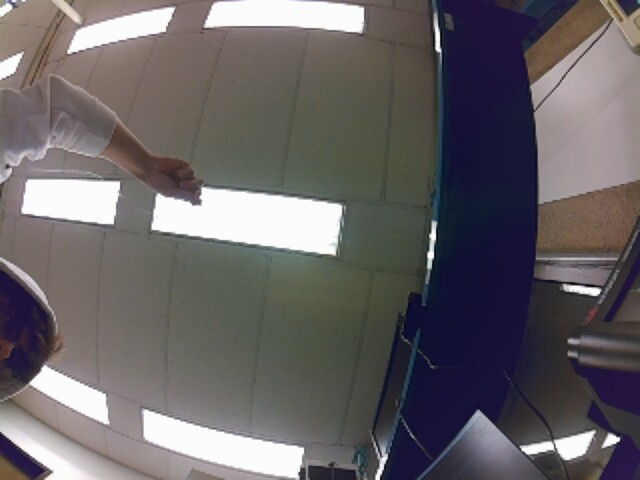mosquito: (2, 160, 13, 173)
